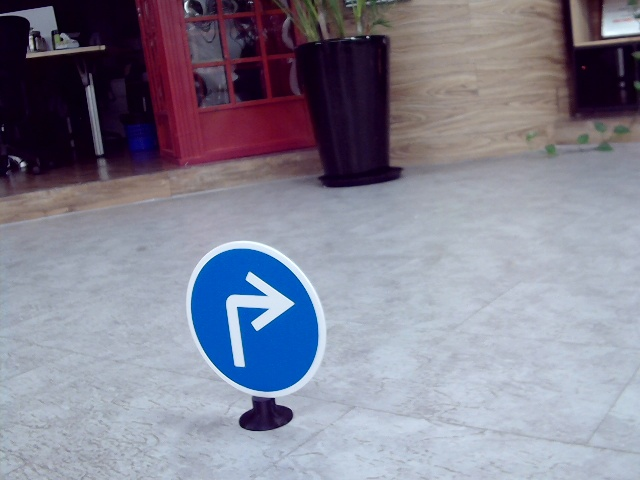turn_right: (216, 269, 288, 377)
